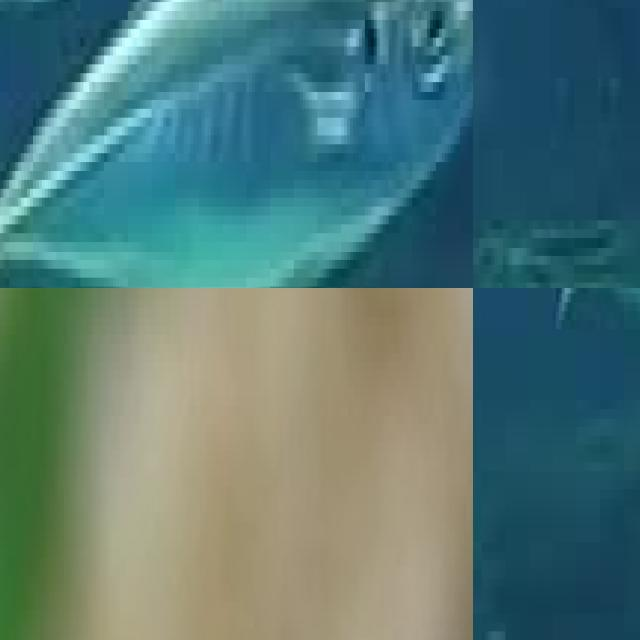fish: (0, 0, 473, 288), (0, 288, 265, 640)
